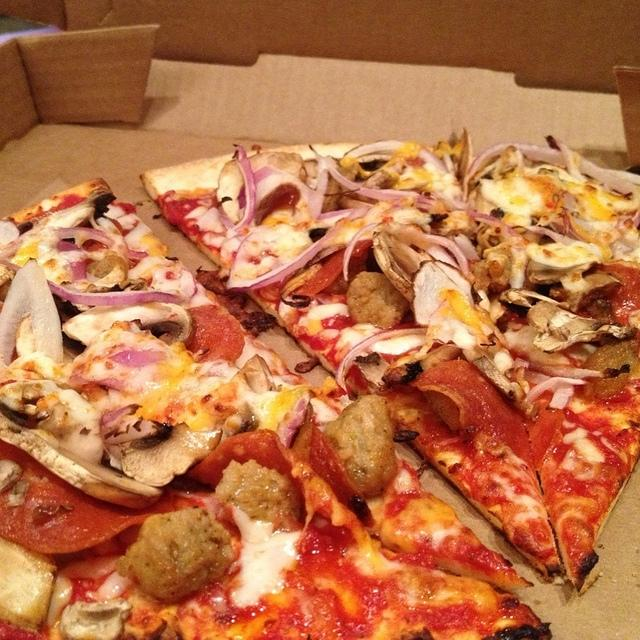onion: (2, 262, 198, 308), (226, 218, 345, 293), (0, 258, 64, 366), (462, 142, 567, 203), (308, 144, 420, 201), (254, 166, 325, 220), (344, 140, 449, 176), (226, 144, 256, 238), (578, 155, 640, 200), (415, 235, 468, 278), (342, 222, 380, 280), (524, 369, 574, 410), (276, 394, 310, 448), (227, 231, 259, 287), (526, 376, 588, 404), (471, 212, 524, 239), (49, 226, 114, 247), (57, 240, 87, 285), (556, 142, 588, 184), (510, 224, 576, 244), (528, 362, 603, 379), (108, 348, 168, 368), (102, 404, 142, 427), (425, 244, 460, 270), (316, 208, 356, 228), (604, 169, 640, 185), (2, 221, 20, 247), (62, 284, 82, 293), (631, 206, 639, 228)
